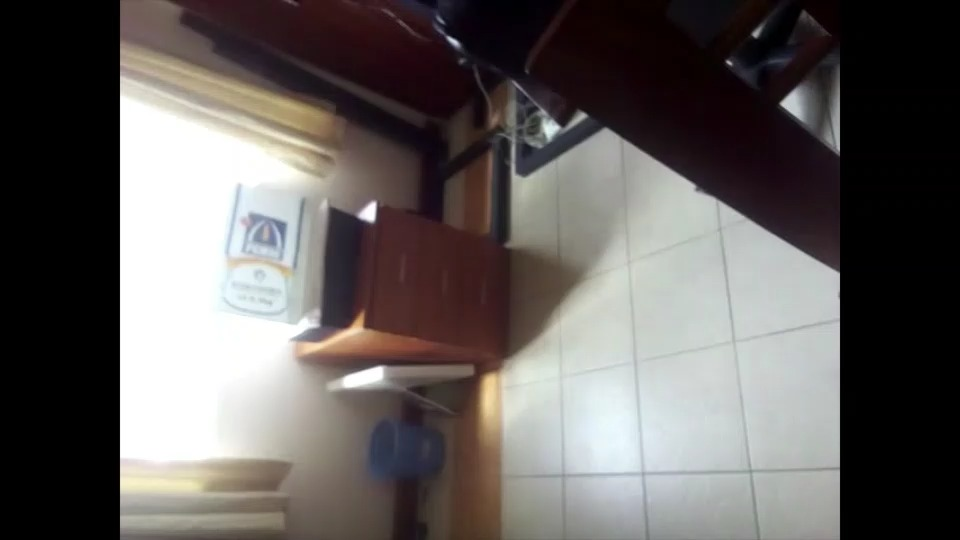wheat_flour_blue_label: (226, 176, 338, 319)
